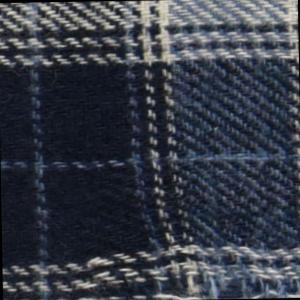Damage: (66, 216, 300, 300)
